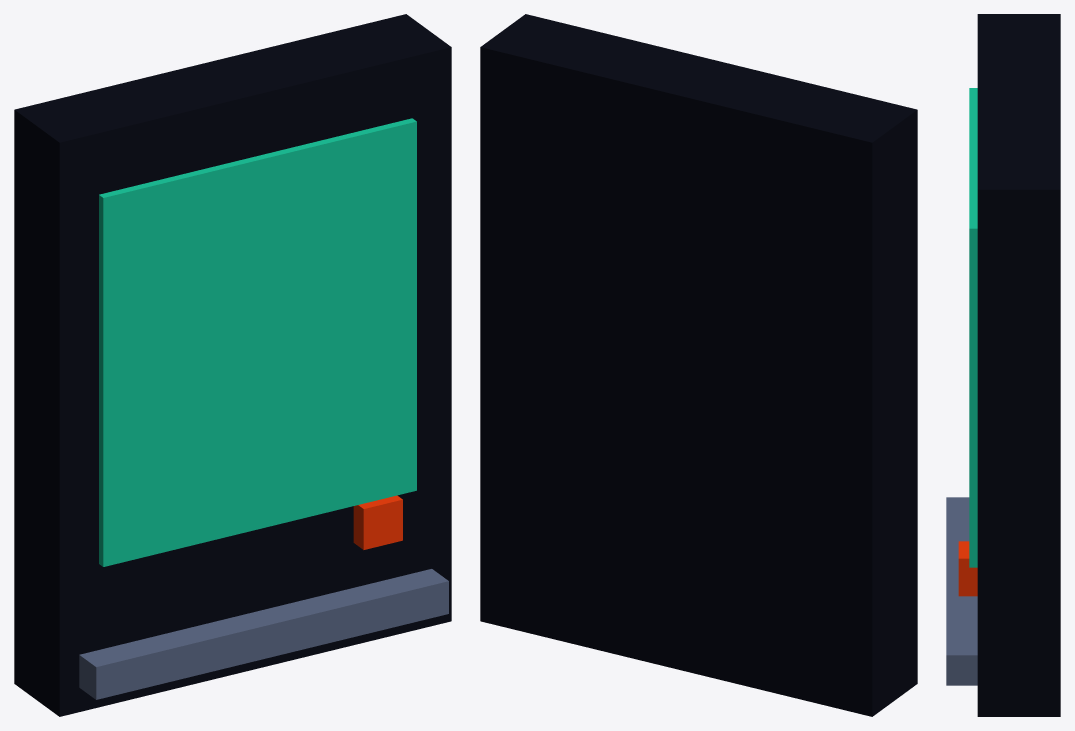
File: terminal_wall.obj
The picture shows the model from 3 angles, left to right: view 1: azimuth 30°, elevation 25°; view 2: azimuth 150°, elevation 25°; view 3: azimuth 270°, elevation 25°; orthographic projection. The views are drawn at different scales.
Parts seen in each view (by area): view 1: terminal_wall; view 2: terminal_wall; view 3: terminal_wall.
Part boxes in pixels (left/top/right/bottom): terminal_wall: left=14, top=14, right=451, bottom=716; terminal_wall: left=480, top=14, right=917, bottom=716; terminal_wall: left=946, top=14, right=1060, bottom=716.
Size of the model in its own units: 1 by 1.4 by 0.275.
